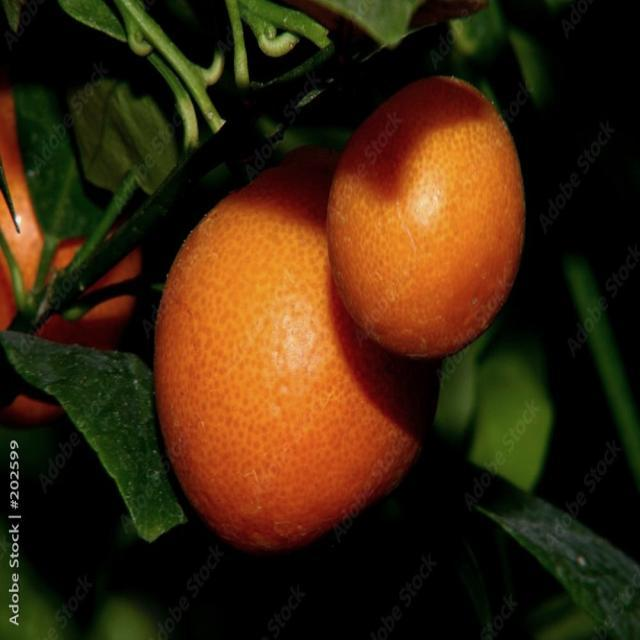Jeruk Sudah Matang: (150, 152, 440, 554), (323, 71, 532, 359), (0, 86, 141, 412)
